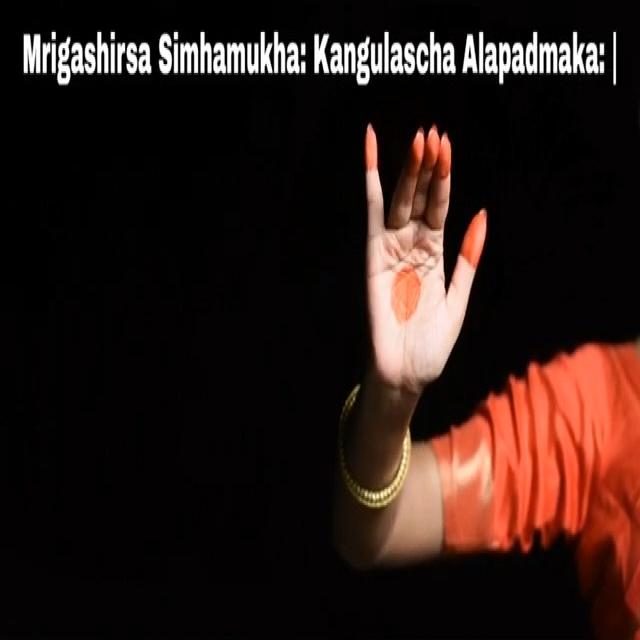Mrigashirsha: (356, 117, 497, 393)
bangle: (321, 393, 421, 514)
text: (13, 24, 621, 96)
